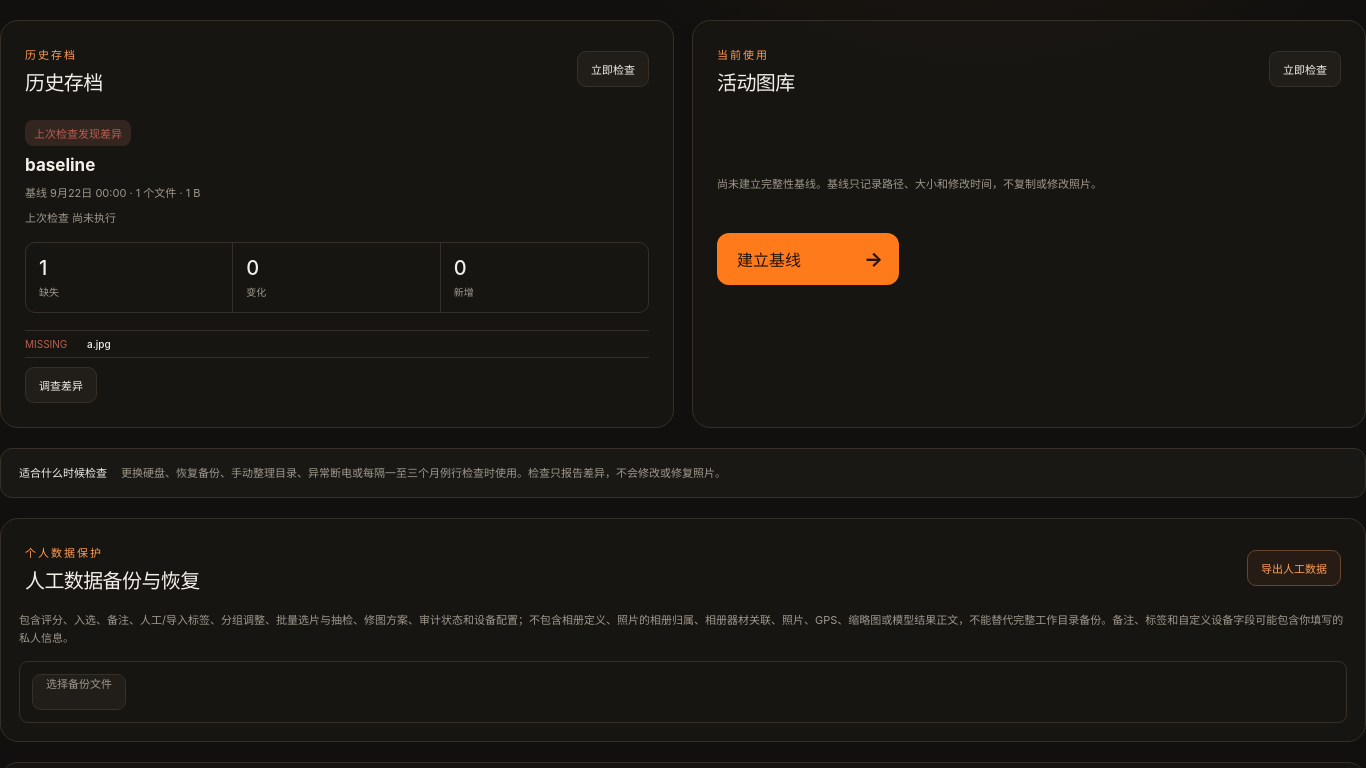
Test: shows difference errors and retries the same request
This screenshot has width=1366, height=768.
(page scrolled)
What coordinates should you click on to do the following:
click the button "调查差异"
I would click on:
 (61, 385)
Its box is [25,367,97,403].
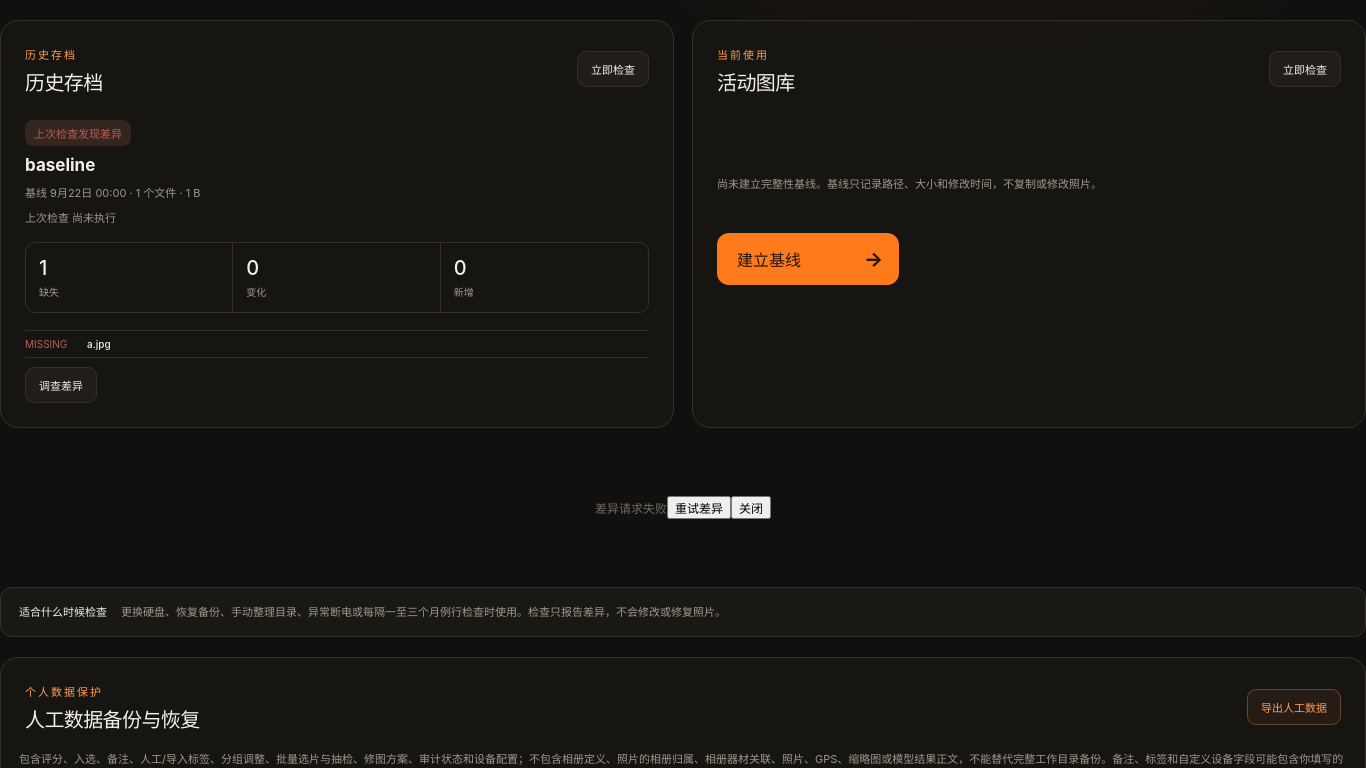
Now the message "差异请求失败 重试差异 关闭" is shown, box [595,496,771,519]
What coordinates should you click on to do the following:
click the button "重试差异"
I would click on:
 (699, 507)
Its box is [667,496,731,519].
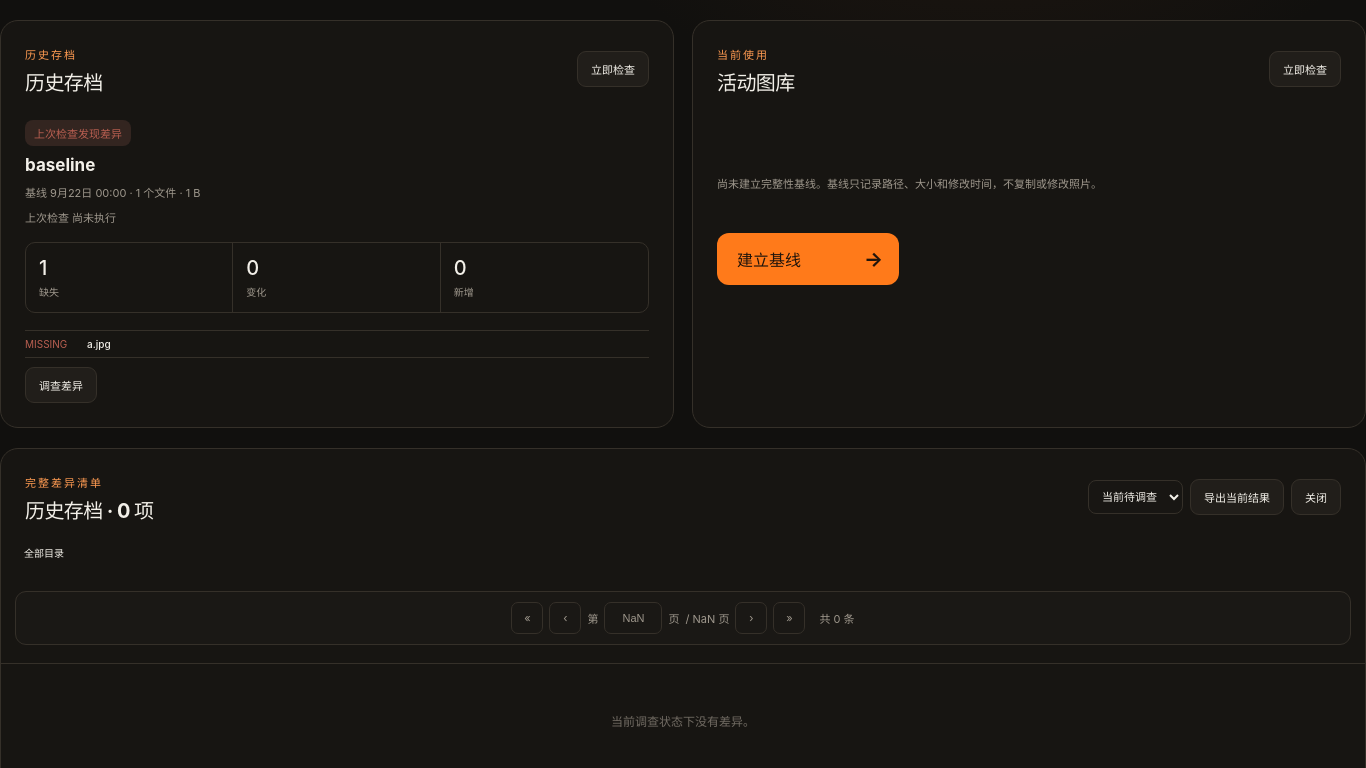
Now the text "完整差异清单" is shown, box [25,476,103,490]
Now the message "差异请求失败 重试差异 关闭" is gone
